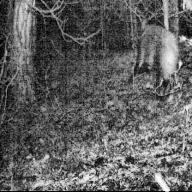boar: (133, 25, 185, 99)
